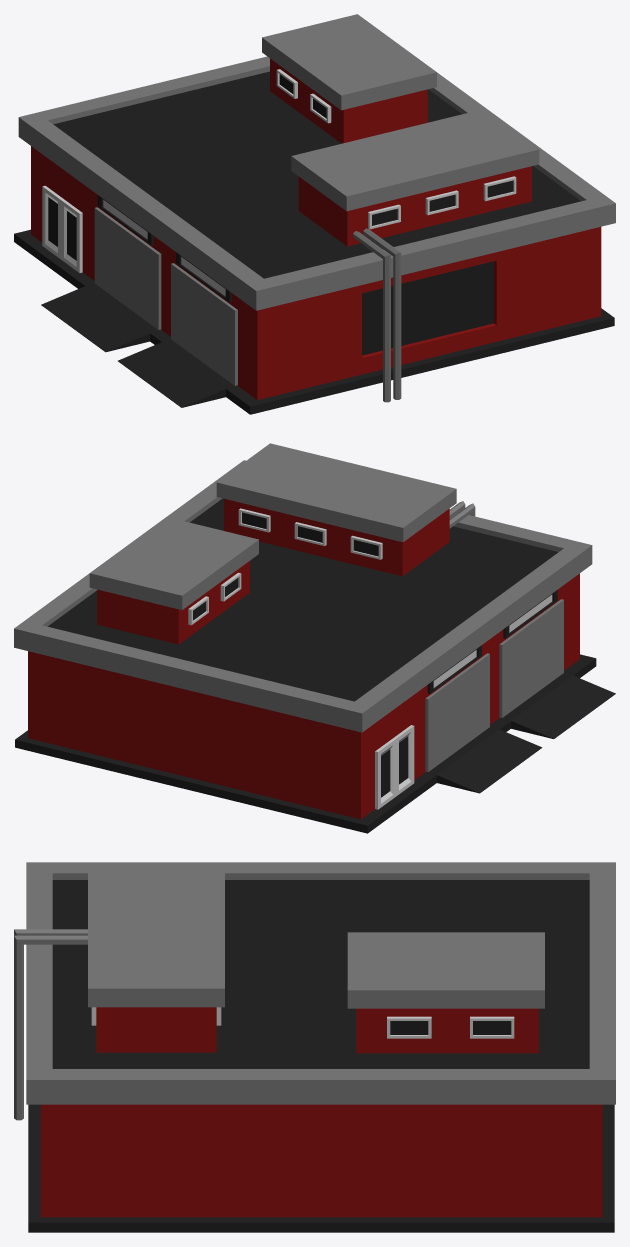
Rendered from FireCasern.fbx.
The picture shows the model from 3 angles, top to bottom: view 1: azimuth 30°, elevation 25°; view 2: azimuth 150°, elevation 25°; view 3: azimuth 270°, elevation 25°; orthographic projection. The views are drawn at different scales.
Parts seen in each view (by area): view 1: Box002; view 2: Box002; view 3: Box002.
Part boxes in pixels (left/top/right/bottom): Box002: left=14, top=14, right=615, bottom=414; Box002: left=14, top=443, right=615, bottom=833; Box002: left=14, top=862, right=615, bottom=1232.
Bounding box in the file's own units: 1694 × 1739 × 740.
